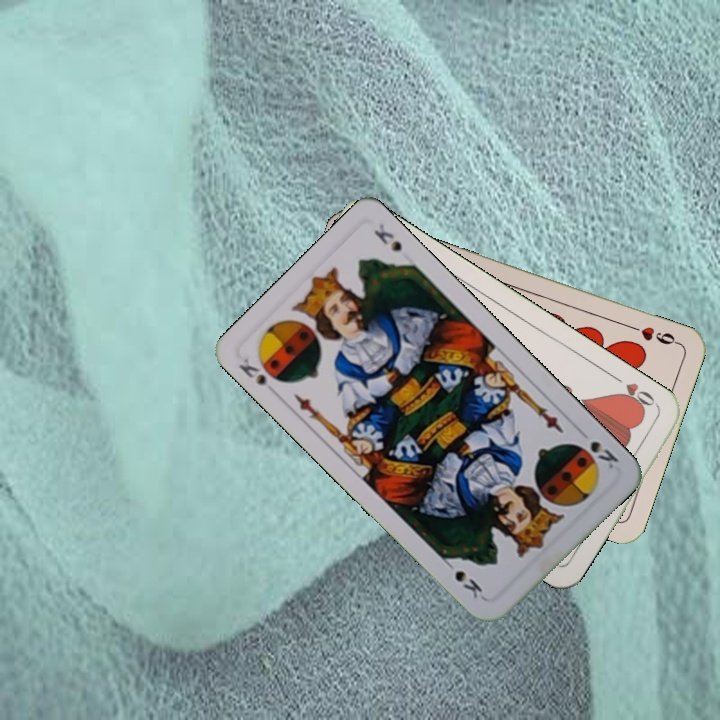H9: (624, 321, 682, 348)
HO: (609, 371, 661, 415)
SK: (234, 354, 286, 397), (586, 437, 622, 472)
